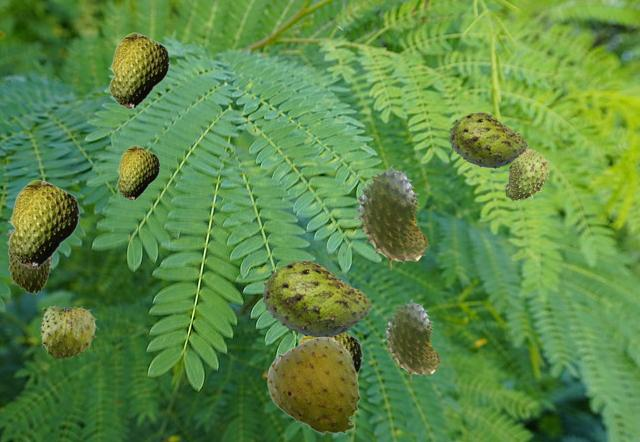guyabano: (265, 336, 360, 435), (262, 260, 370, 337), (354, 165, 428, 269), (7, 179, 79, 269), (382, 299, 440, 380), (108, 32, 169, 109), (449, 112, 526, 167), (39, 303, 97, 358), (6, 229, 53, 293), (297, 332, 362, 374), (116, 145, 159, 200), (503, 149, 548, 200)
